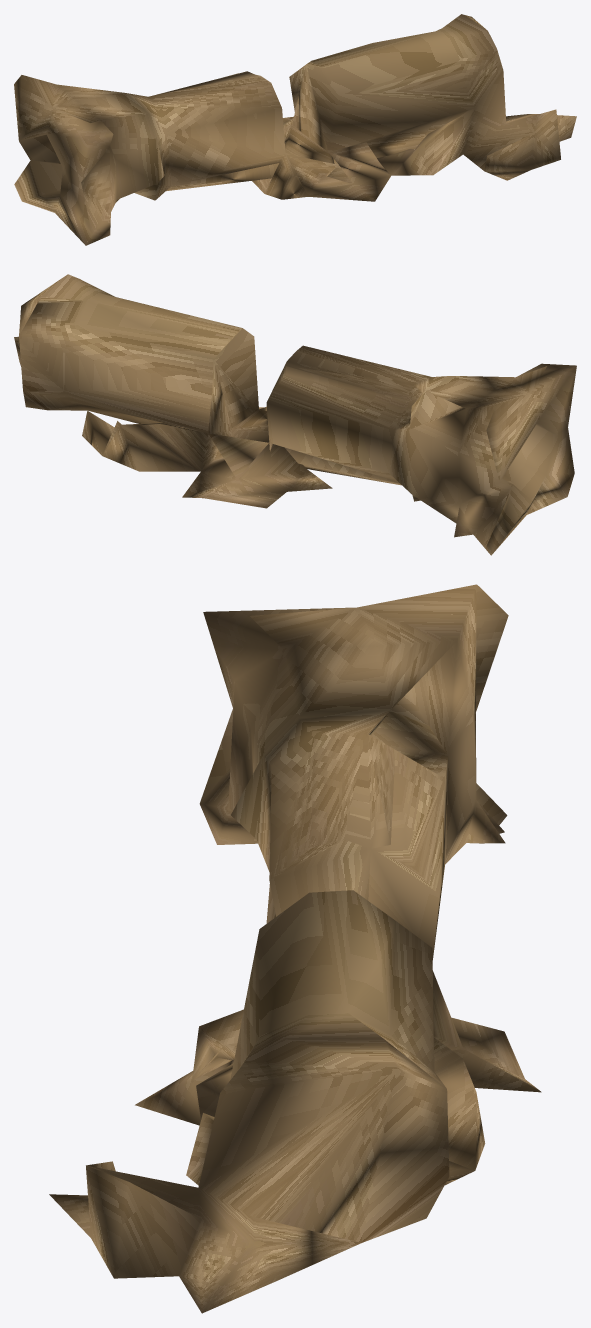
The model's file is pilier_lod.glb.
3 renders of one model, top to bottom at view 1: azimuth 30°, elevation 25°; view 2: azimuth 150°, elevation 25°; view 3: azimuth 270°, elevation 25°, orthographic. The views are drawn at different scales.
Bounding box in the file's own units: 0.9453 × 0.2393 × 0.4106.
Materials: 1 (1 with a texture image).
